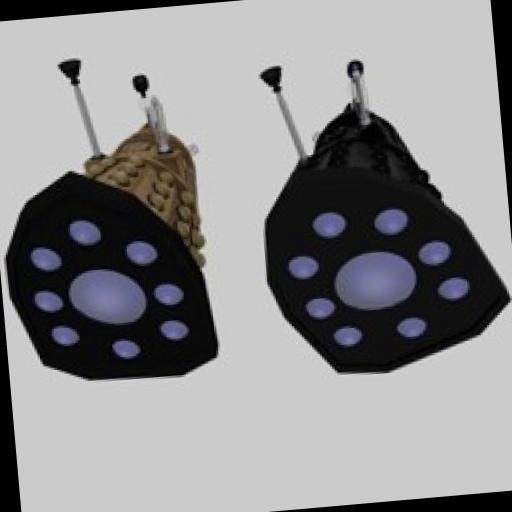dalek: (239, 26, 512, 396), (0, 36, 233, 393)
